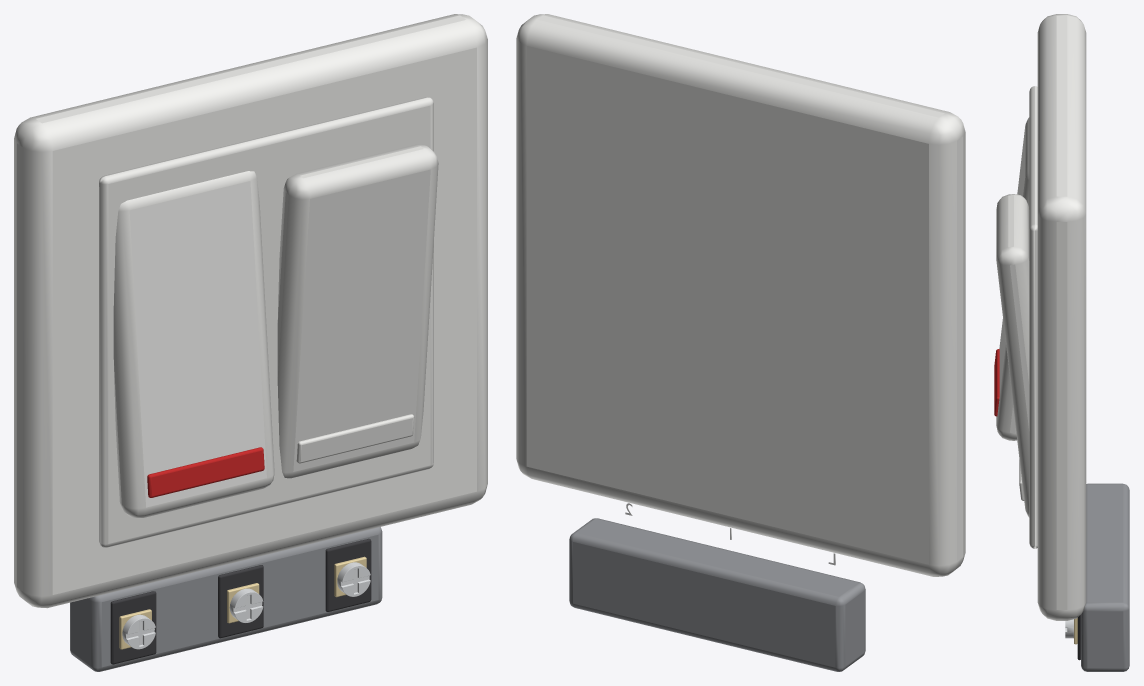
The model's file is swd_10.glb.
The picture shows the model from 3 angles, left to right: view 1: azimuth 30°, elevation 25°; view 2: azimuth 150°, elevation 25°; view 3: azimuth 270°, elevation 25°; orthographic projection. The views are drawn at different scales.
Parts seen in each view (by area): view 1: body, mech; view 2: body, mech; view 3: body, mech.
Boxes of the visible parts, box(x1,y1,x2,y2) form: body: box(14, 14, 487, 608); mech: box(70, 527, 382, 671); body: box(516, 14, 965, 576); mech: box(569, 503, 865, 671); body: box(994, 14, 1086, 620); mech: box(1065, 483, 1129, 671).
Size of the model in its own units: 0.086 by 0.103 by 0.025.
